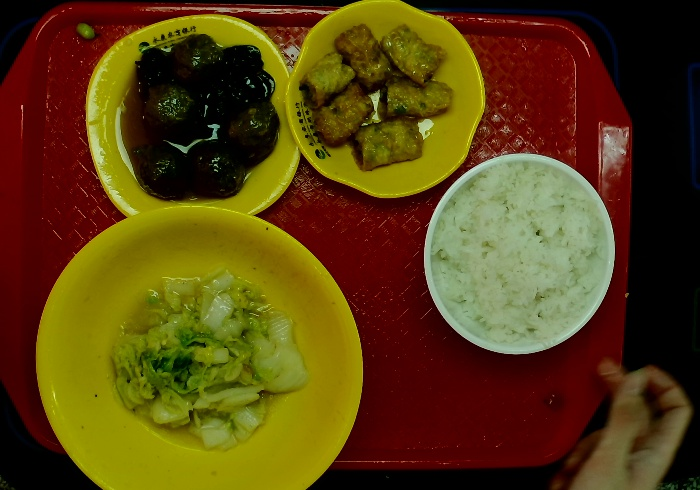YKMZ-Fan_Wan: (420, 150, 617, 359)
YKMZ-Huang_Se_Ao_Bian_Wan: (283, 1, 487, 202)
YKMZ-Huang_Se_Fang_Die: (81, 11, 304, 221)
YKMZ-Huang_Se_Tang_Wan: (32, 202, 367, 490)
